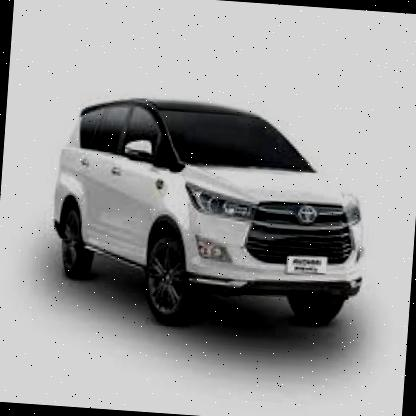car: (36, 81, 386, 347)
